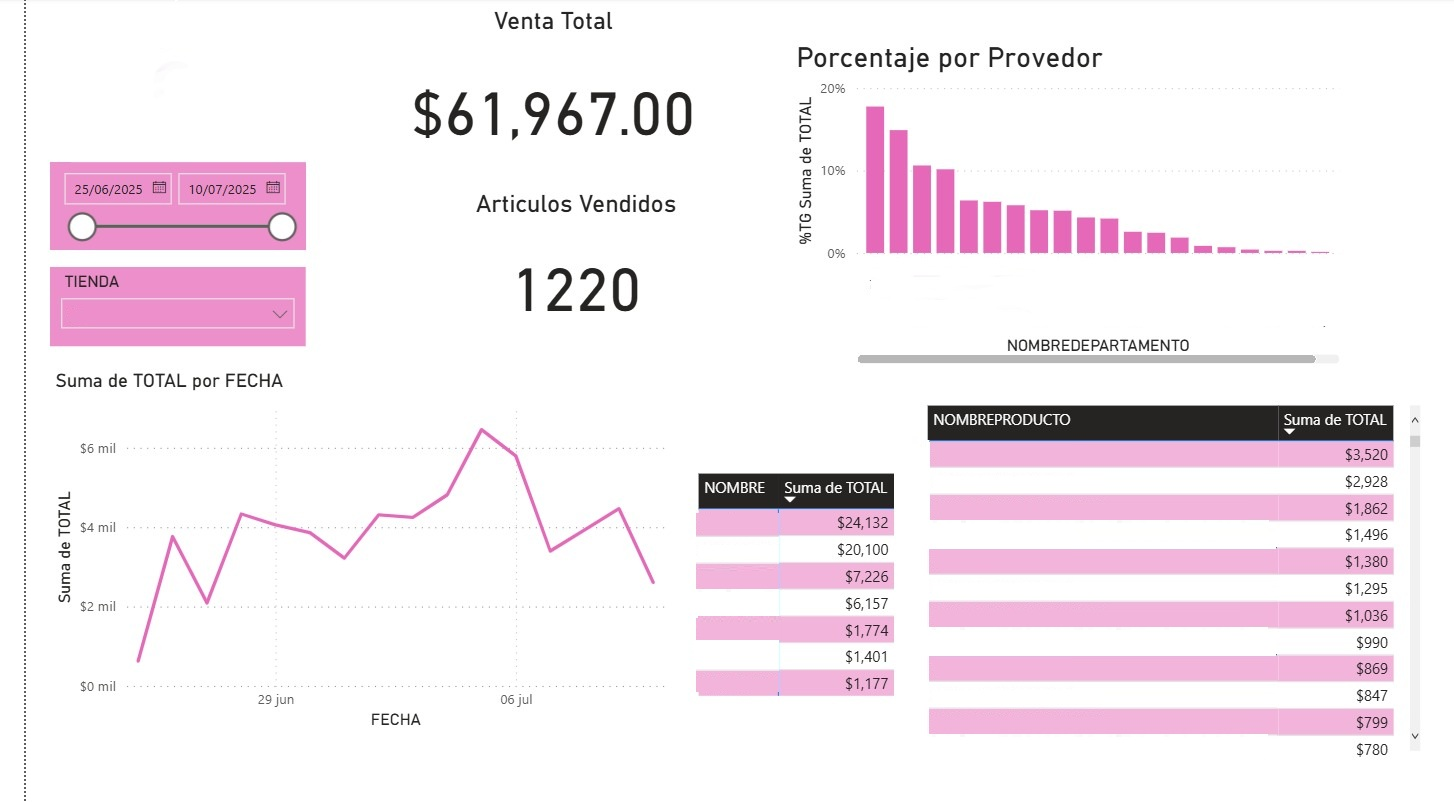

This screenshot's page, from the dashboard's own definition file:
{"tool":"powerbi","page":{"name":"Página 1","canvas":[1280,720],"ordinal":0},"visuals":[{"type":"slicer","fields":{"Values":["VENTAS_EMPLEADAS.FECHA"]},"box":[21.4,146.9,228.6,77.8],"z":0},{"type":"slicer","fields":{"Values":["VENTAS_EMPLEADAS.TIENDA"]},"box":[21.4,241.2,228.6,71],"z":1000},{"type":"card","title":"Articulos Vendidos","fields":{"Values":["Sum(VENTAS_EMPLEADAS.NUMARTICULOS)"]},"box":[374.5,172.2,236.4,140.1],"z":2000},{"type":"card","title":"Venta Total","fields":{"Values":["Sum(VENTAS_EMPLEADAS.TOTAL)"]},"box":[321.9,7.8,299.6,149.8],"z":3000},{"type":"card","fields":{"Values":["Min(VENTAS_EMPLEADAS.TIENDA)"]},"box":[40.3,0,233.7,146.9],"z":3001},{"type":"lineChart","fields":{"Category":["VENTAS_EMPLEADAS.FECHA"],"Y":["Sum(VENTAS_EMPLEADAS.TOTAL)"]},"box":[21.4,332.6,560.2,326.8],"z":3002},{"type":"clusteredColumnChart","title":"Porcentaje por Provedor","fields":{"Category":["VENTAS_PRODUCTOMARCA.NOMBREDEPARTAMENTO"],"Y":["Sum(VENTAS_PRODUCTOMARCA.TOTAL)"]},"box":[684.7,37.9,496,294.7],"z":3004},{"type":"pivotTable","fields":{"Rows":["VENTAS_EMPLEADAS.NOMBRE"],"Values":["Sum(VENTAS_EMPLEADAS.TOTAL)"]},"box":[597.2,421.2,195.5,229.5],"z":3005},{"type":"tableEx","fields":{"Values":["VENTAS_PRODUCTOMARCA.NOMBREPRODUCTO","Sum(VENTAS_PRODUCTOMARCA.TOTAL)"]},"box":[801.5,359.9,452.3,327.8],"z":3006}]}

Visuals, with their boxes in screenshot pixels (x1, y1, x2, y2), scaled from the page's 1280x720 canvas onto the 1454x802 screenshot:
slicer - VENTAS_EMPLEADAS.FECHA: crop(24, 164, 284, 250)
slicer - VENTAS_EMPLEADAS.TIENDA: crop(24, 269, 284, 348)
"Articulos Vendidos" card: crop(425, 192, 694, 348)
"Venta Total" card: crop(366, 9, 706, 176)
card - Min(VENTAS_EMPLEADAS.TIENDA): crop(46, 0, 311, 164)
lineChart - VENTAS_EMPLEADAS.FECHA x Sum(VENTAS_EMPLEADAS.TOTAL): crop(24, 370, 661, 734)
"Porcentaje por Provedor" clusteredColumnChart: crop(778, 42, 1341, 370)
pivotTable - VENTAS_EMPLEADAS.NOMBRE x Sum(VENTAS_EMPLEADAS.TOTAL): crop(678, 469, 900, 725)
tableEx - VENTAS_PRODUCTOMARCA.NOMBREPRODUCTO x Sum(VENTAS_PRODUCTOMARCA.TOTAL): crop(910, 401, 1424, 766)
